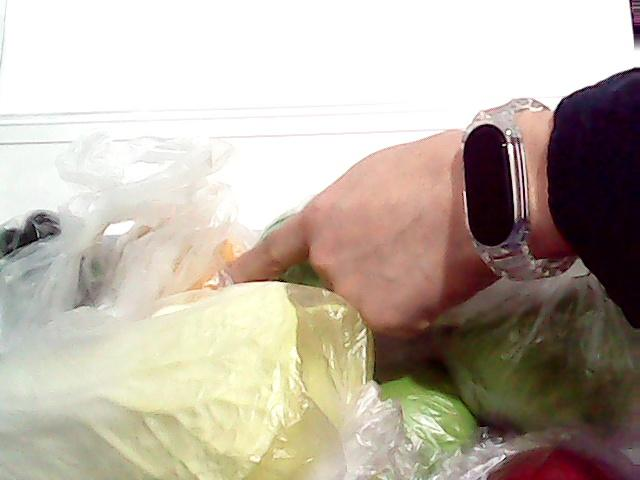apple: (368, 377, 482, 471), (462, 436, 640, 480)
cabbage: (400, 230, 640, 450)
grape: (0, 182, 104, 296)
lemon: (122, 206, 262, 306)
napa cabbage: (0, 279, 364, 480)
radish: (258, 211, 334, 290)
